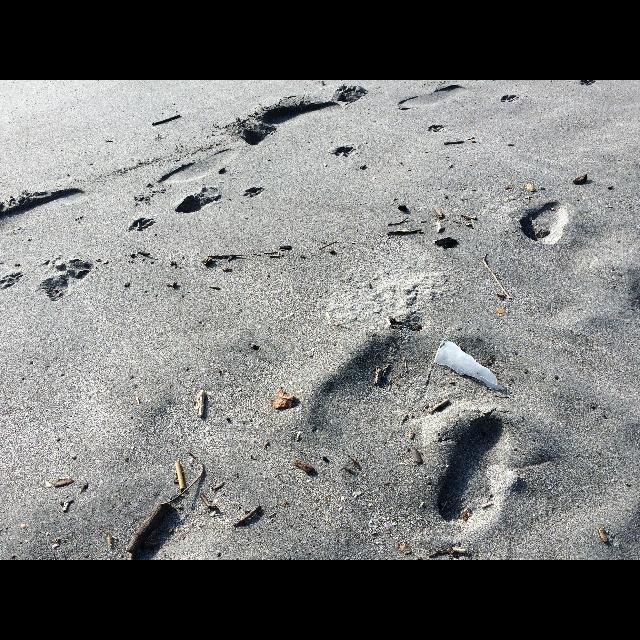Plastic: (434, 340, 504, 390), (496, 308, 504, 312)
